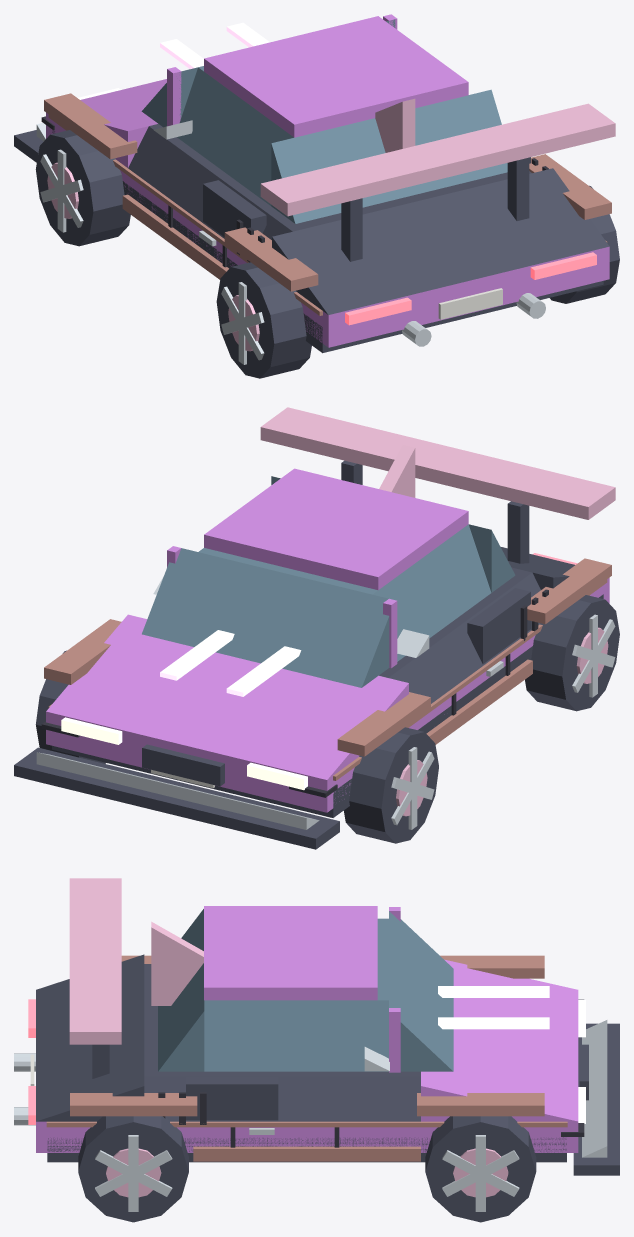
Rendered from laplight_lancer.glb.
3 renders of one model, top to bottom at view 1: azimuth 30°, elevation 25°; view 2: azimuth 150°, elevation 25°; view 3: azimuth 270°, elevation 25°, orthographic. The views are drawn at different scales.
Parts seen in each view (by area): view 1: Tail.091, Roof.291, RearWing.054, RearWindow.191, Body.291, CabinSideL.088, Wheel_RL.251, Wheel_FL.251, ShoulderL.088, Nose.088, BodyUpper.088, Arch-1False.167 (+26 smaller); view 2: Nose.088, Windshield.191, Roof.291, RearWing.054, Splitter.058, CabinSideL.088, Body.291, Wheel_FL.251, Wheel_RL.251, ShoulderL.088, Bumper.287, AirIntake-1.054 (+22 smaller); view 3: Roof.291, Nose.088, CabinSideR.088, Tail.091, RearWing.054, Windshield.191, ShoulderR.088, Body.291, Wheel_RR.251, Wheel_FR.251, RearWindow.191, AirIntake1.054 (+24 smaller).
Part boxes in pixels (box(x1,y1,x2,y2)): Tail.091: box(272, 168, 609, 314); Roof.291: box(204, 16, 468, 137); RearWing.054: box(260, 103, 615, 216); RearWindow.191: box(271, 89, 507, 223); Body.291: box(46, 112, 609, 347); CabinSideL.088: box(177, 67, 293, 205); Wheel_RL.251: box(216, 262, 311, 378); Wheel_FL.251: box(35, 130, 130, 246); ShoulderL.088: box(128, 126, 292, 239); Nose.088: box(80, 79, 166, 167); BodyUpper.088: box(149, 124, 531, 231); Arch-1False.167: box(44, 93, 137, 159); Nose.088: box(46, 614, 408, 779); Windshield.191: box(142, 548, 389, 687); Roof.291: box(204, 468, 468, 590); RearWing.054: box(260, 407, 615, 519); Splitter.058: box(14, 747, 339, 849); CabinSideL.088: box(373, 524, 491, 661); Body.291: box(46, 577, 609, 812); Wheel_FL.251: box(343, 727, 438, 843); Wheel_RL.251: box(525, 595, 619, 711); ShoulderL.088: box(389, 572, 540, 703); Bumper.287: box(36, 752, 319, 829); AirIntake-1.054: box(467, 588, 530, 663); Roof.291: box(204, 906, 377, 1000); Nose.088: box(421, 959, 578, 1121); CabinSideR.088: box(204, 1000, 388, 1071); Tail.091: box(36, 954, 144, 1121); RearWing.054: box(69, 878, 121, 1044); Windshield.191: box(389, 911, 453, 1071); ShoulderR.088: box(144, 1076, 420, 1121); Body.291: box(36, 1121, 578, 1152); Wheel_RR.251: box(78, 1116, 188, 1222); Wheel_FR.251: box(425, 1116, 536, 1222); RearWindow.191: box(158, 909, 204, 1071); AirIntake1.054: box(186, 1077, 278, 1120).
Size of the model in its own units: 3.4 by 2.08 by 5.25.
